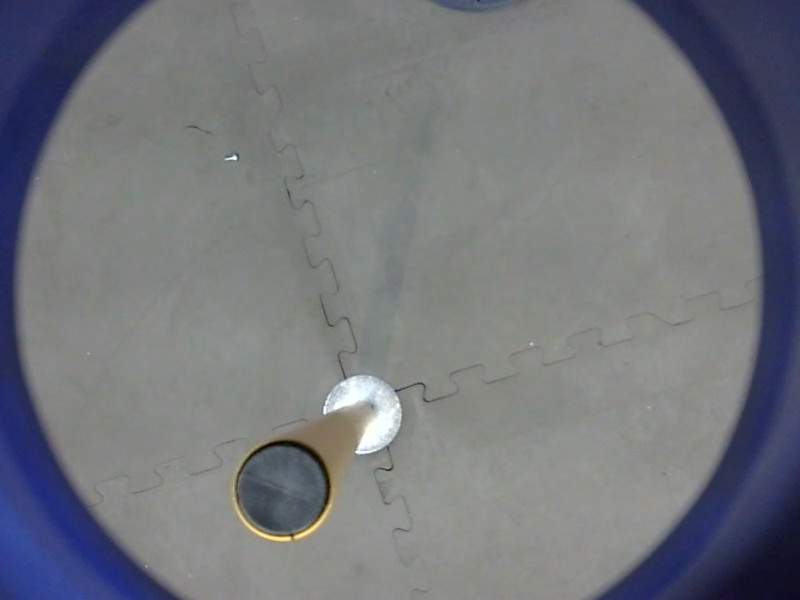tip: (228, 432, 339, 550)
